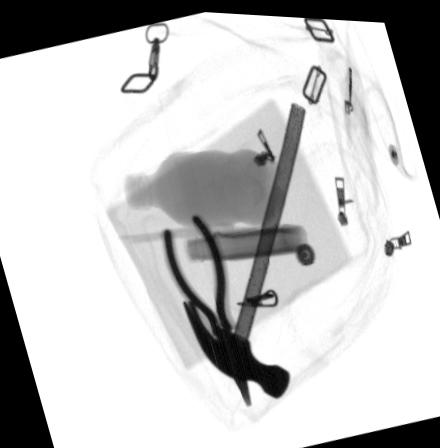Hammer: (182, 100, 306, 397)
Pliers: (164, 212, 249, 404)
